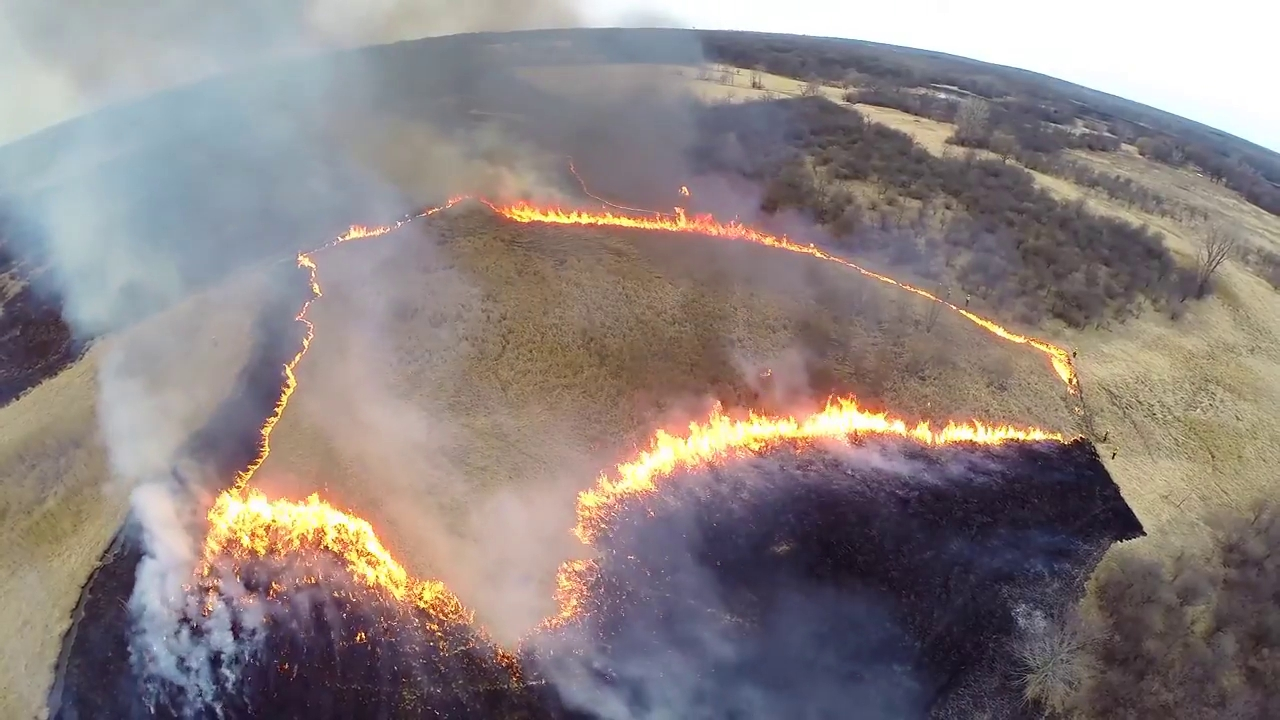forest_fire: (202, 197, 1079, 619), (573, 397, 1066, 545), (544, 560, 596, 627)
